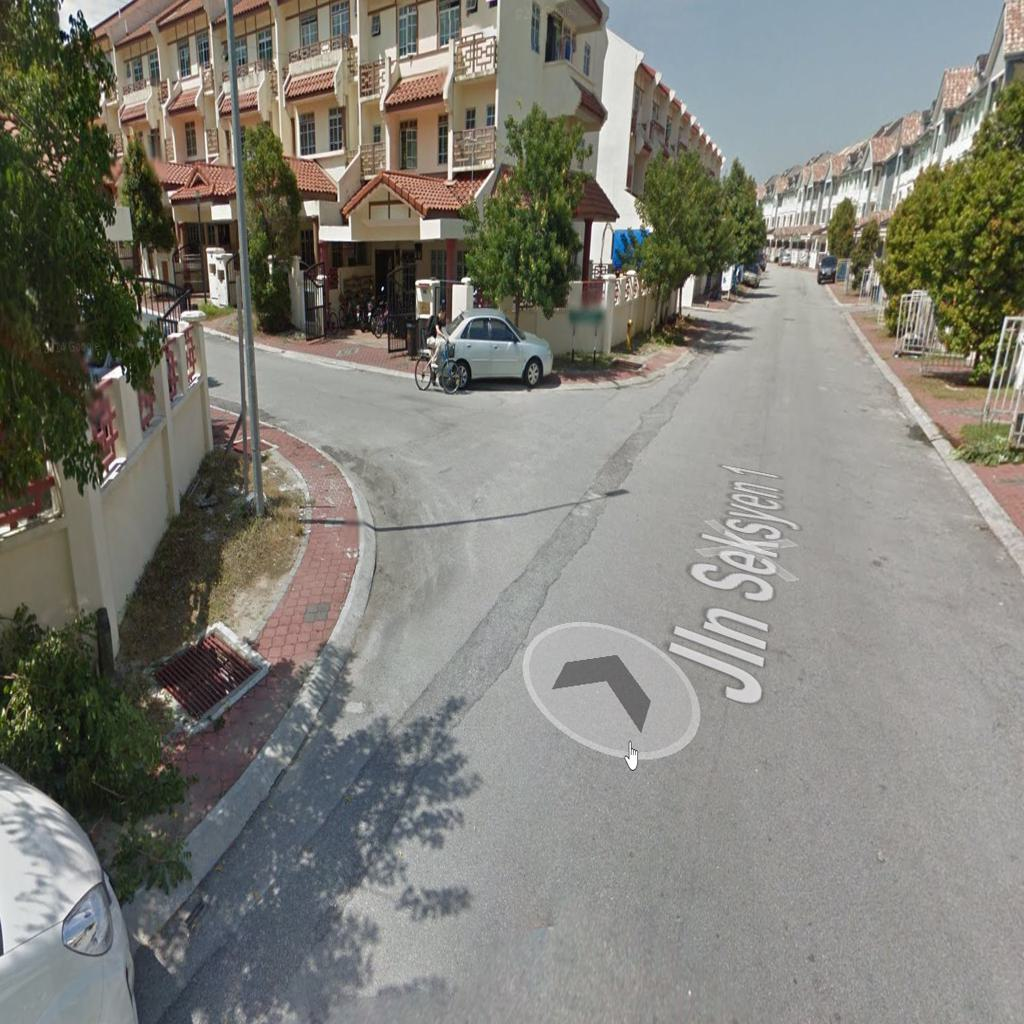Junction: (264, 343, 680, 646)
